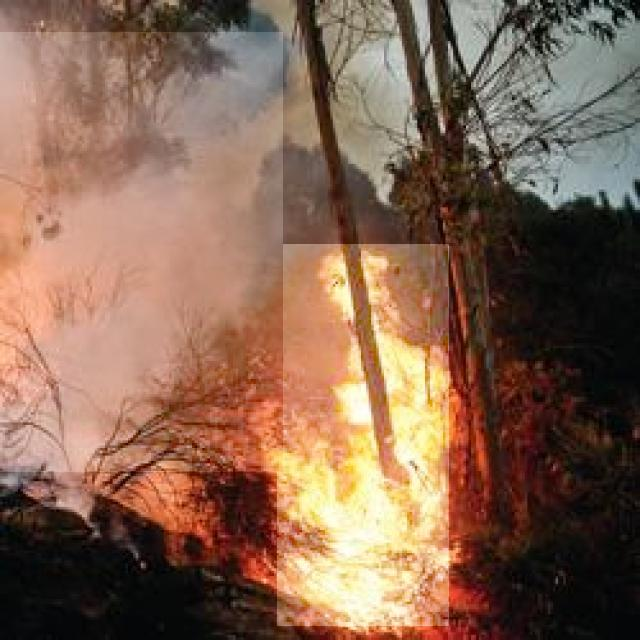Fire: (277, 244, 449, 626)
Smoke: (0, 32, 283, 472)
